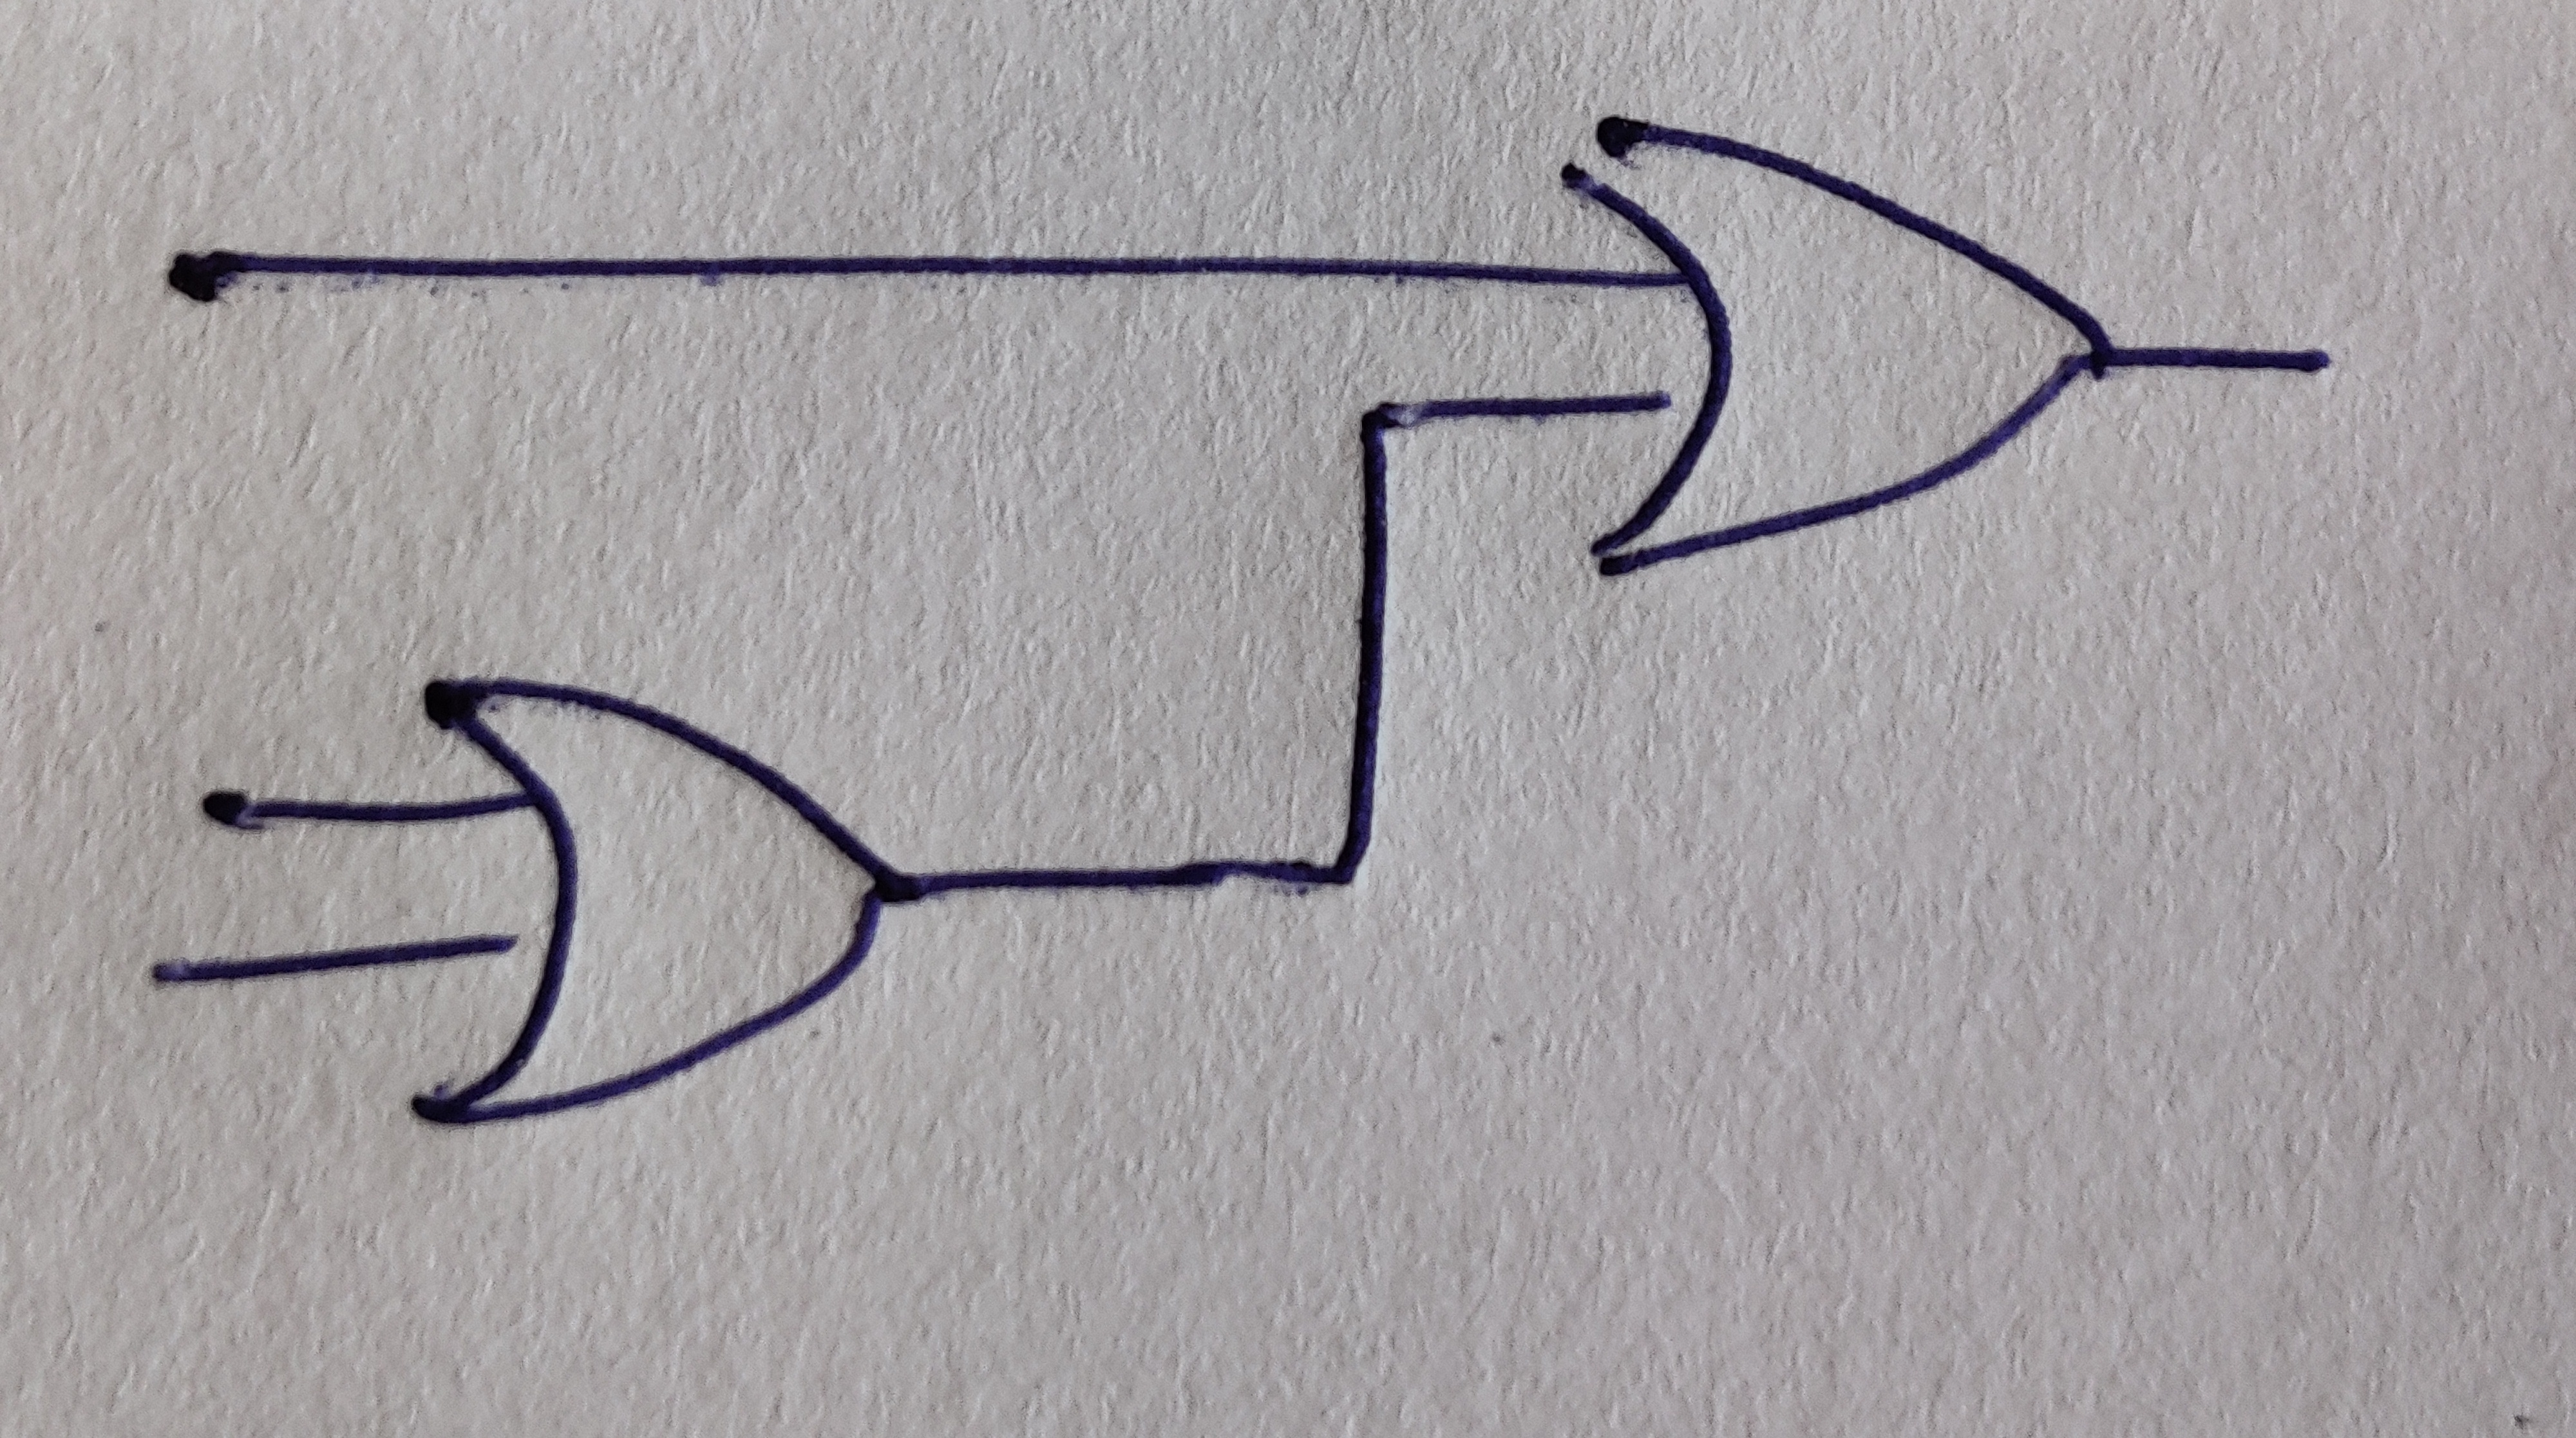or: (1560, 117, 2116, 575), (410, 681, 918, 1123)
